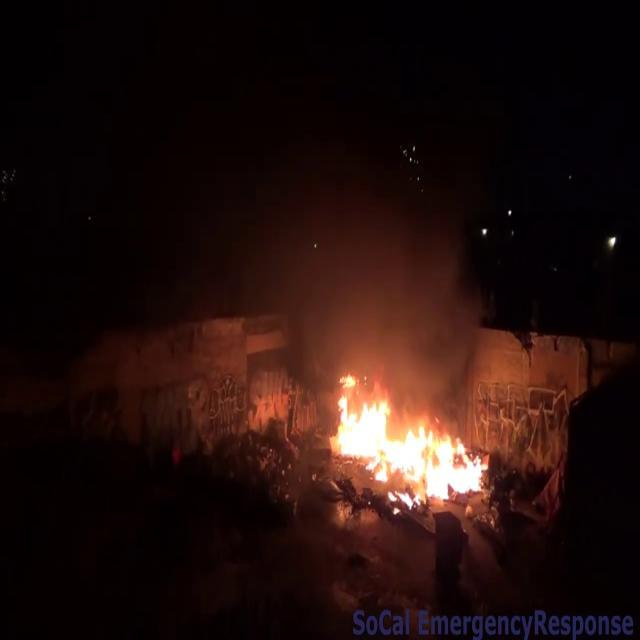Fire: (320, 372, 493, 504)
Smoke: (264, 119, 504, 398)
